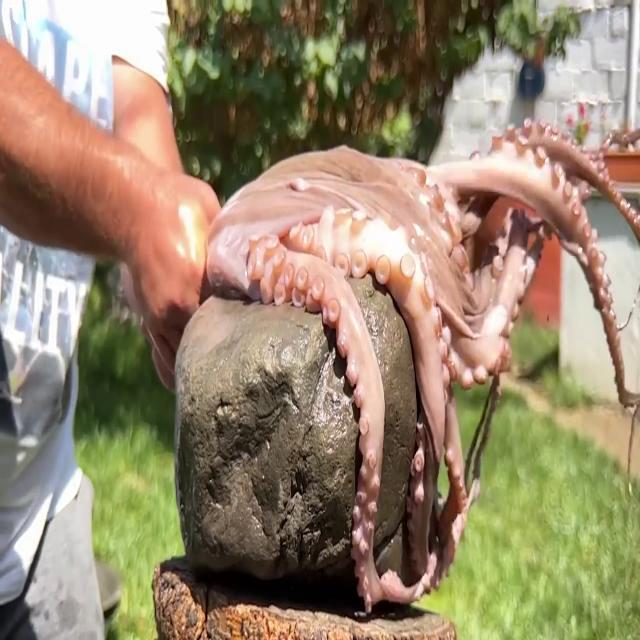octopus: (198, 120, 640, 612)
